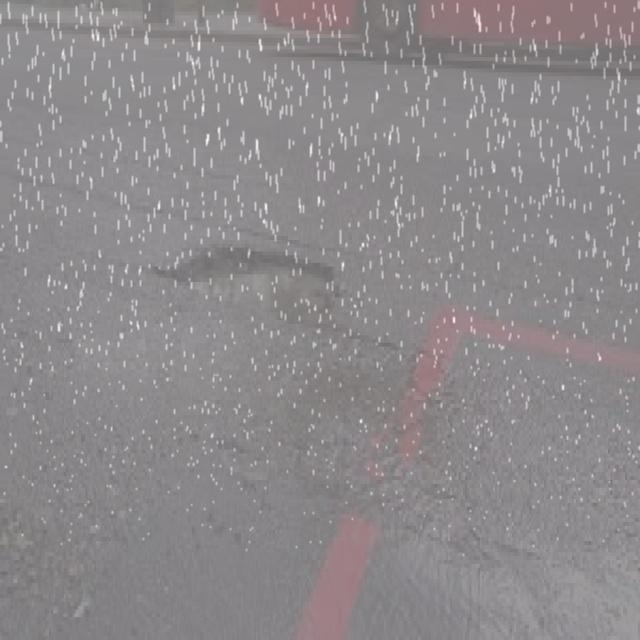Pothole: (146, 239, 340, 310)
